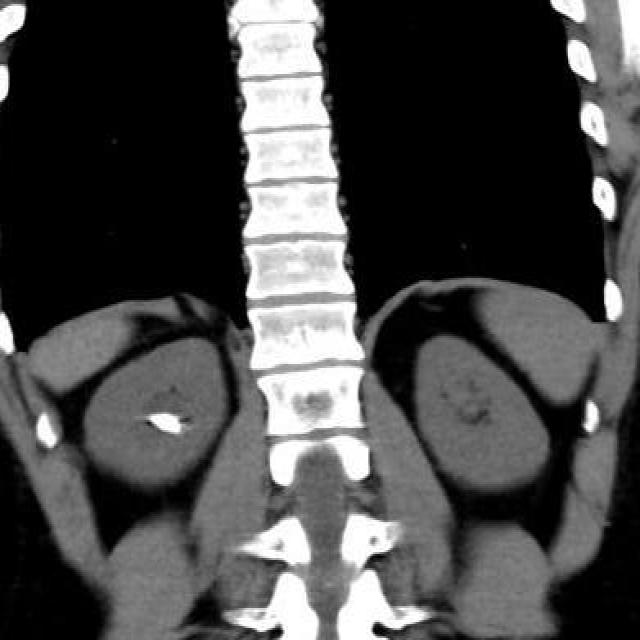Tas_Var: (144, 408, 192, 442)
